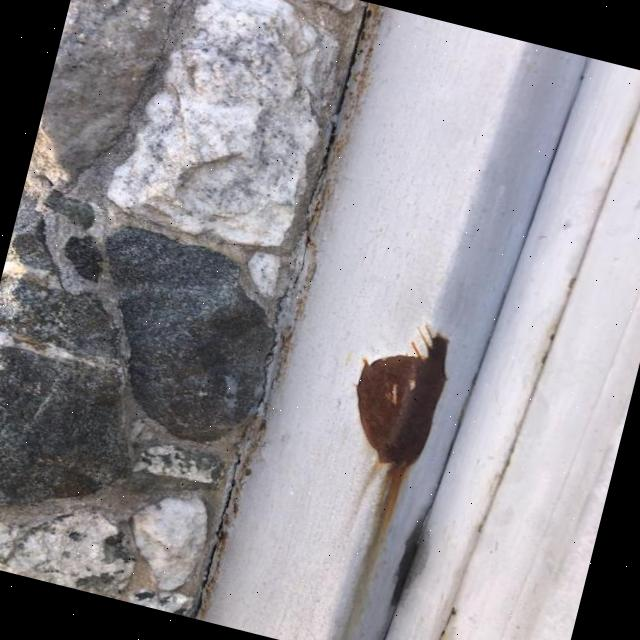Corrosion: (289, 308, 458, 640), (336, 308, 459, 476)
